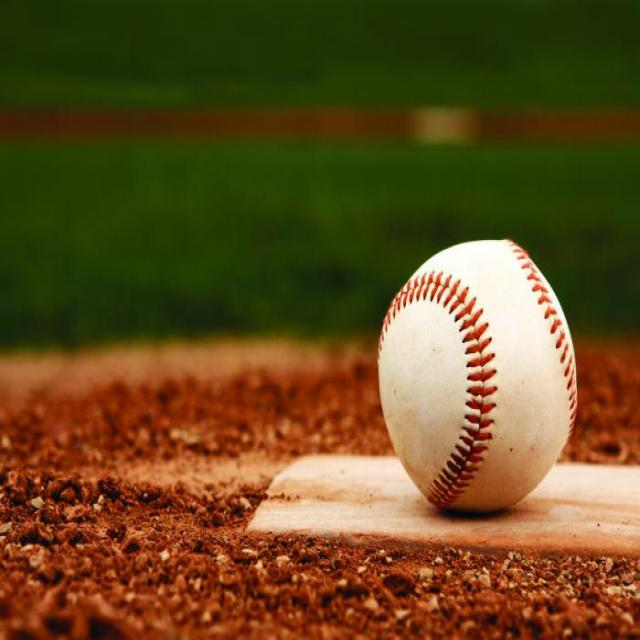baseball: (376, 238, 580, 512)
